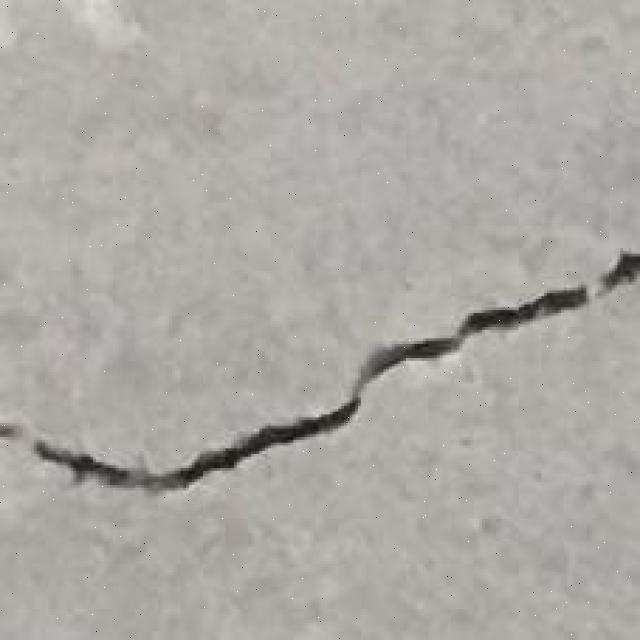crack: (1, 247, 638, 492)
